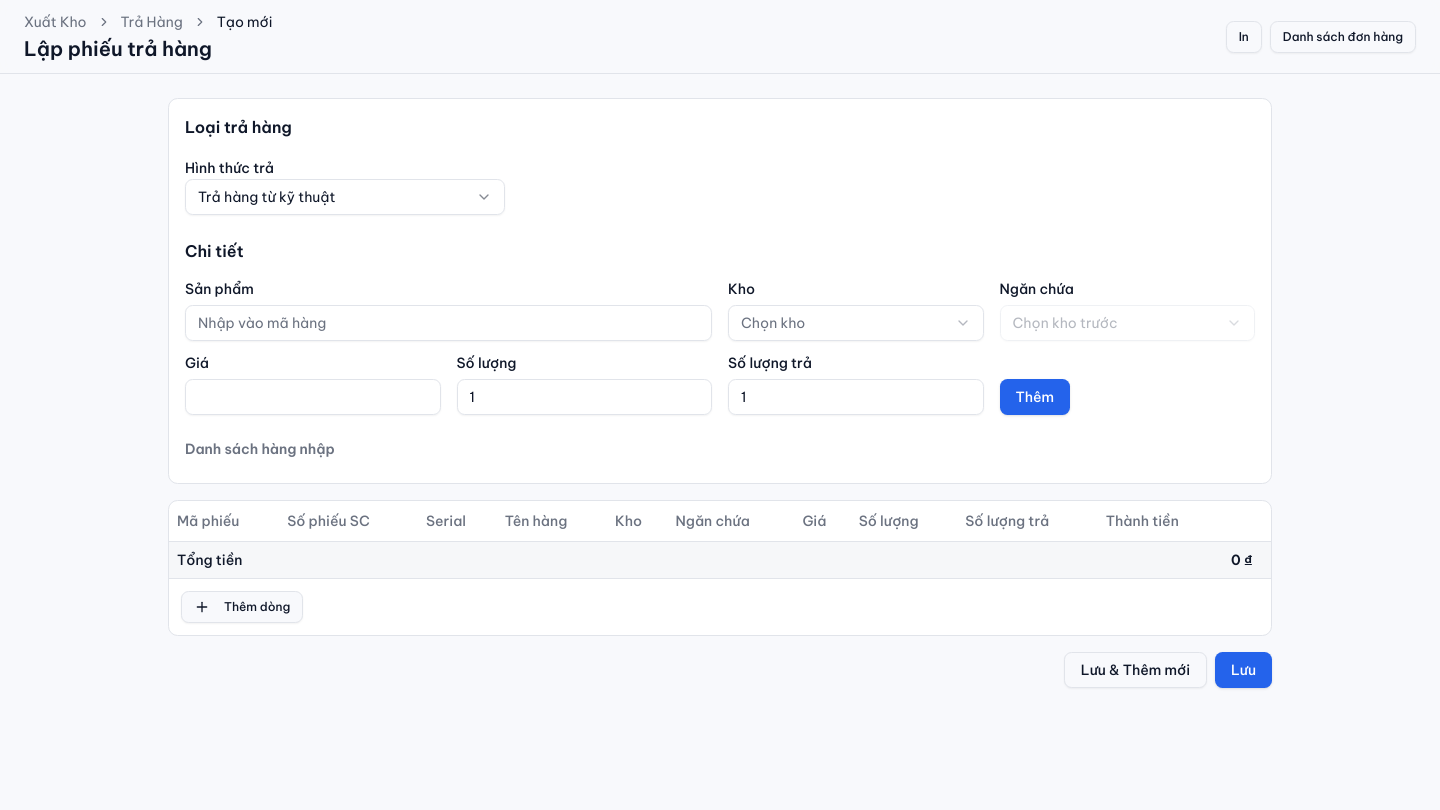
TraHangCreatePage › Hình thức trả option 4 is "Trả xác linh kiện" (editor-specific label)
Click the dropdown named "Hình thức trả": (267, 197) top-left (185, 179), bottom-right (505, 215)
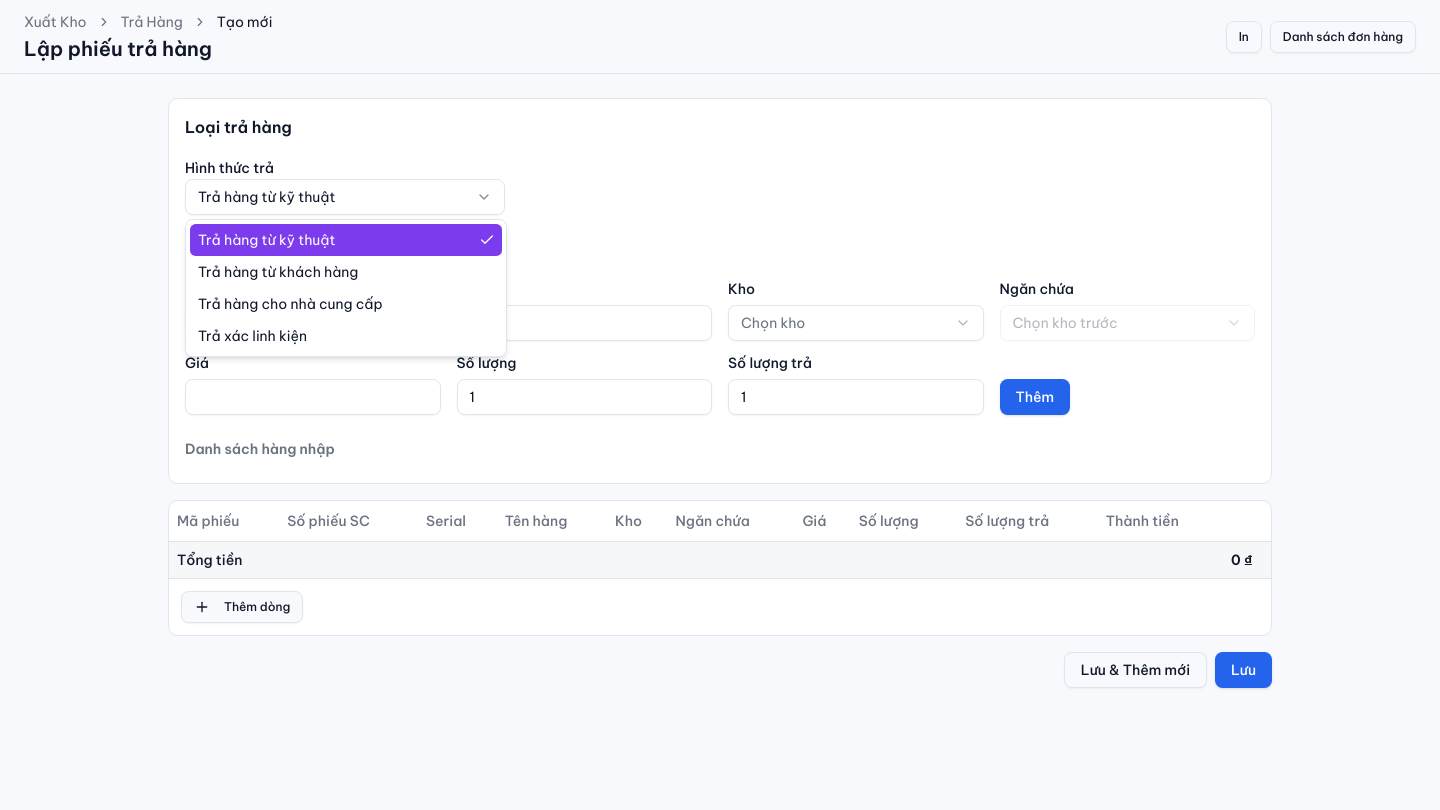
Expected: the list that starts with "Trả hàng từ kỹ thuật" is shown, top-left (185, 219), bottom-right (507, 357)
Expected: the option "Trả xác linh kiện" is shown, top-left (198, 327), bottom-right (307, 345)
